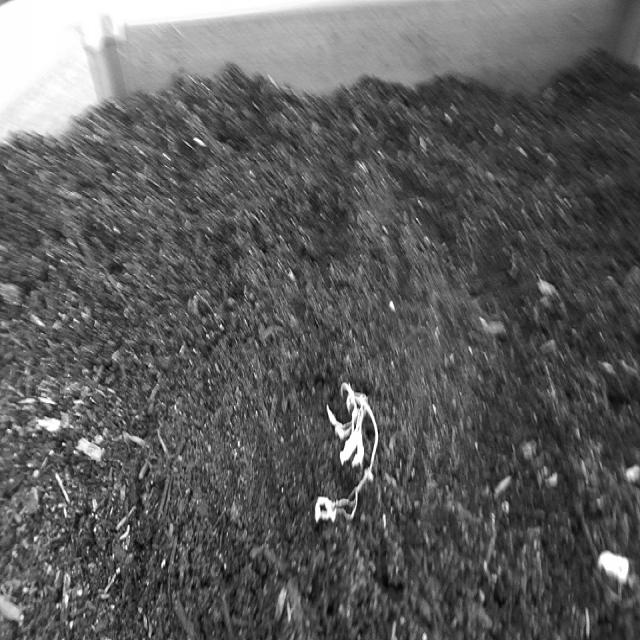Unhealthy: (304, 365, 393, 534)
